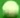white: (0, 0, 20, 18)
